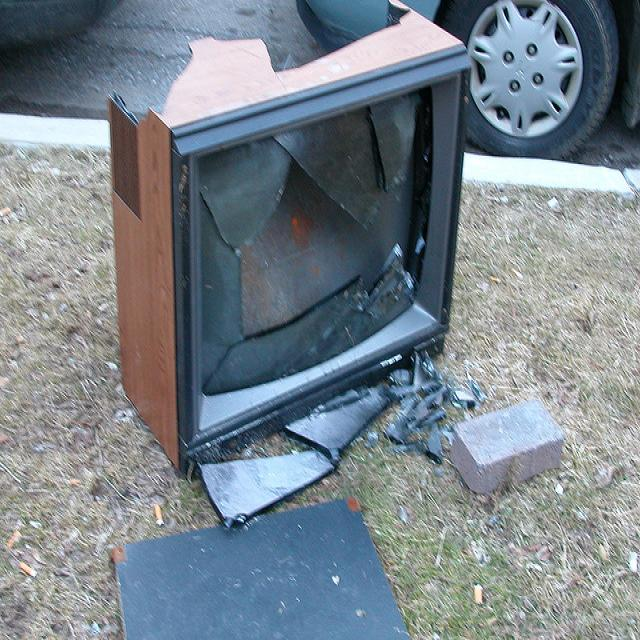Vehicle: (294, 0, 640, 162)
